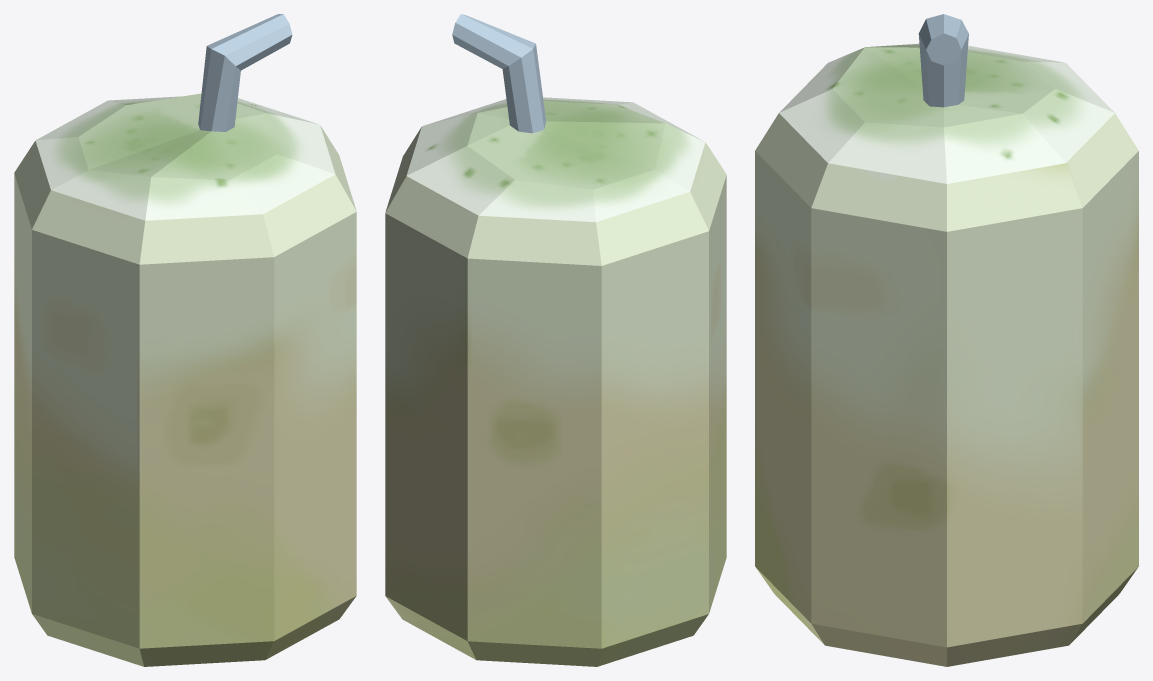
File: jasmine_tea.glb
3 renders of one model, left to right at view 1: azimuth 30°, elevation 25°; view 2: azimuth 150°, elevation 25°; view 3: azimuth 270°, elevation 25°, orthographic. The views are drawn at different scales.
Parts seen in each view (by area): view 1: jasmine_tea; view 2: jasmine_tea; view 3: jasmine_tea.
Part boxes in pixels (left/top/right/bottom): jasmine_tea: left=14, top=14, right=356, bottom=666; jasmine_tea: left=385, top=14, right=726, bottom=666; jasmine_tea: left=755, top=14, right=1138, bottom=666.
Size of the model in its own units: 0.297 by 0.5223 by 0.297.
1 material, 1 textured.
